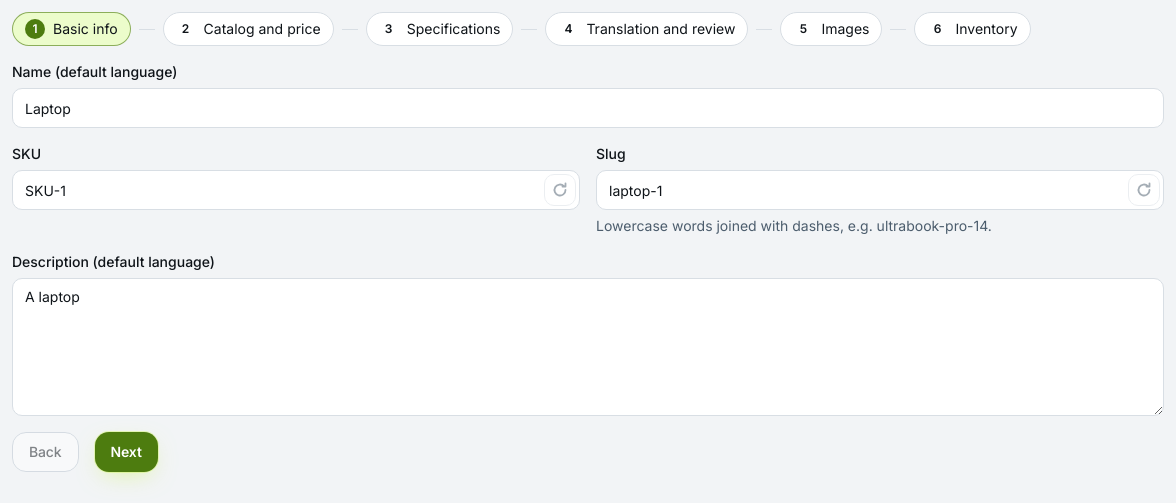
Test: ProductForm wizard › lets free navigation jump to any step without validation
Note: Pill 6 clickable from step 1: no validation needed.
Click the button with aria-label "6. Inventory" at [973, 29], box [914, 12, 1031, 46]
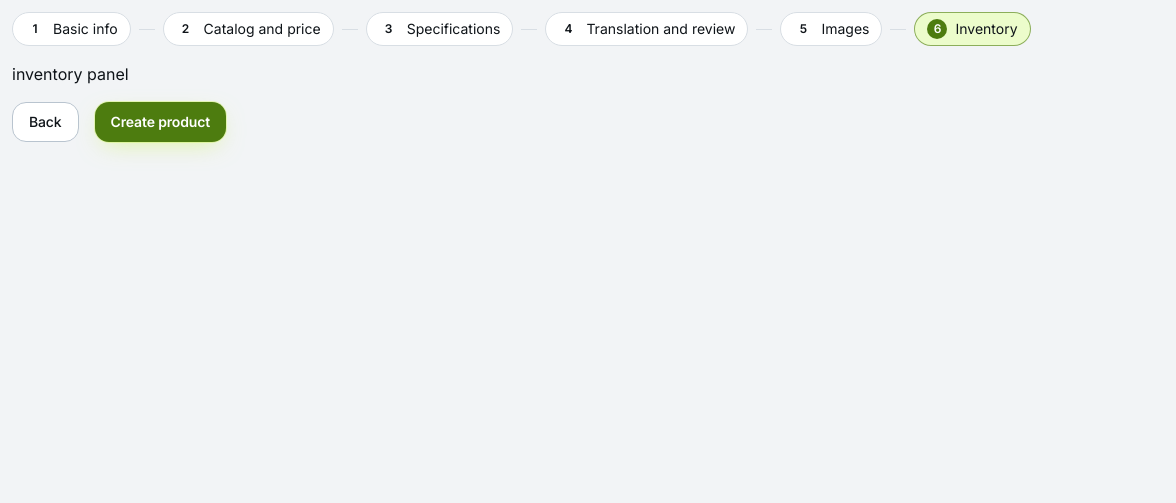
Result: the text "inventory panel" is shown at [12, 64, 129, 84]
Click the button with aria-label "1. Basic info" at [71, 29], box [12, 12, 131, 46]
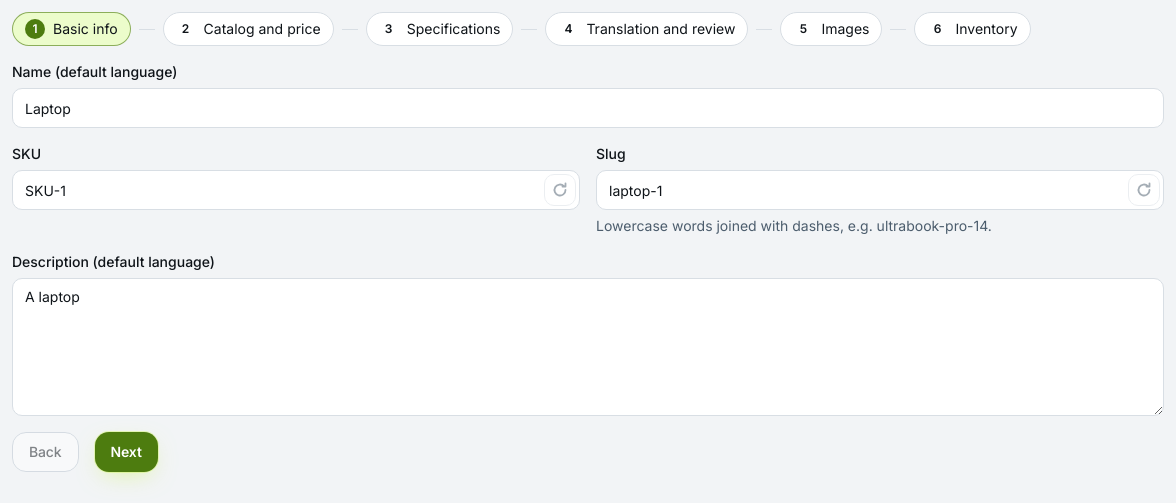
Result: the field labelled "SKU" is shown at [12, 170, 580, 210]
Click the button "Next" at [126, 452], box [94, 432, 158, 472]
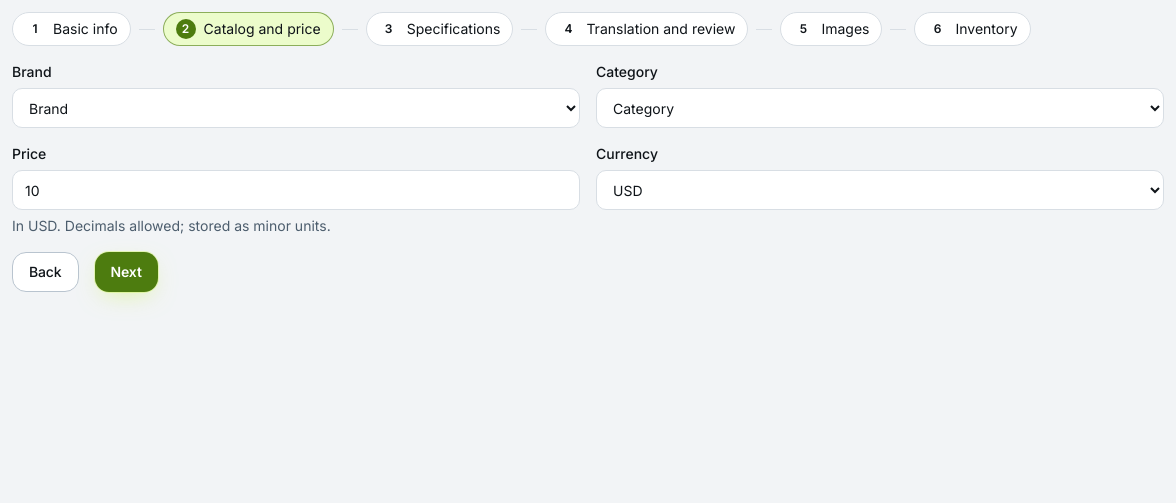
Result: the dropdown labelled "Brand" is shown at [12, 88, 580, 128]
